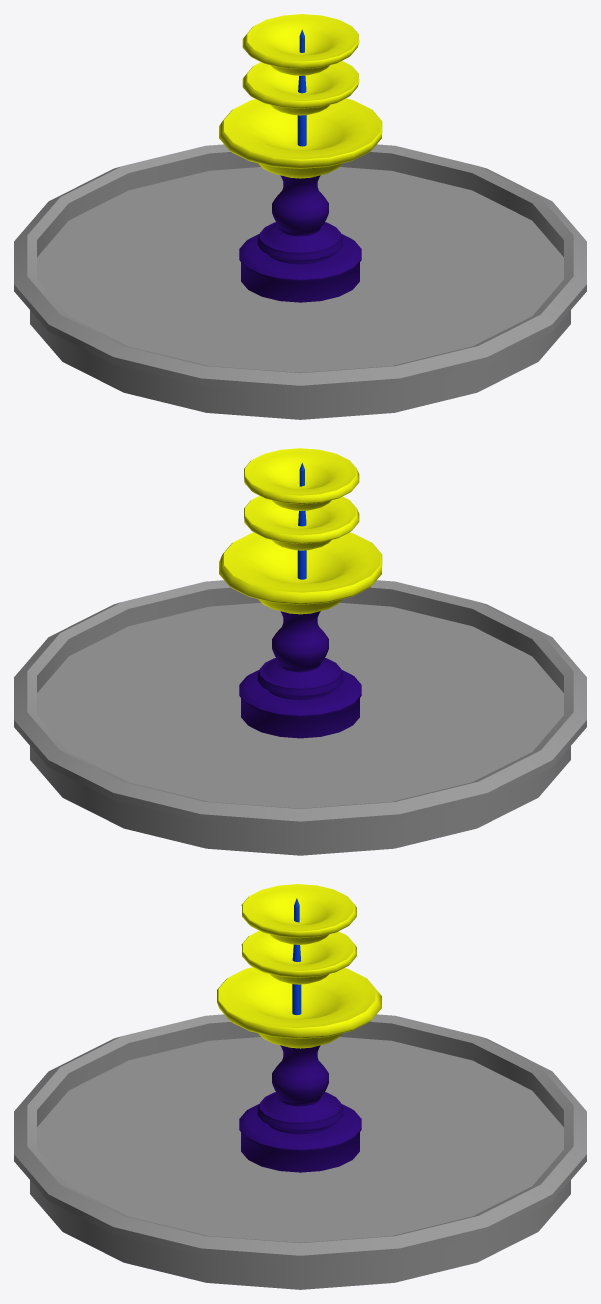
File: ayy2.FBX
The picture shows the model from 3 angles, top to bottom: view 1: azimuth 30°, elevation 25°; view 2: azimuth 150°, elevation 25°; view 3: azimuth 270°, elevation 25°; orthographic projection.
Visible parts, largest first — view 1: Cylinder001, Ayy, ays, Object001; view 2: Cylinder001, Ayy, ays, Object001; view 3: Cylinder001, Ayy, ays, Object001.
Boxes of the visible parts, box(x1,y1,x2,y2) form: Cylinder001: box(14, 144, 586, 419); Ayy: box(219, 14, 382, 178); ays: box(239, 175, 361, 302); Object001: box(297, 29, 306, 146); Cylinder001: box(14, 580, 586, 855); Ayy: box(219, 448, 382, 614); ays: box(239, 611, 361, 738); Object001: box(297, 463, 306, 579); Cylinder001: box(14, 1014, 586, 1289); Ayy: box(217, 884, 381, 1048); ays: box(239, 1045, 361, 1172); Object001: box(292, 898, 301, 1015).
Bounding box in the file's own units: 8.02 × 4.2 × 7.9.
